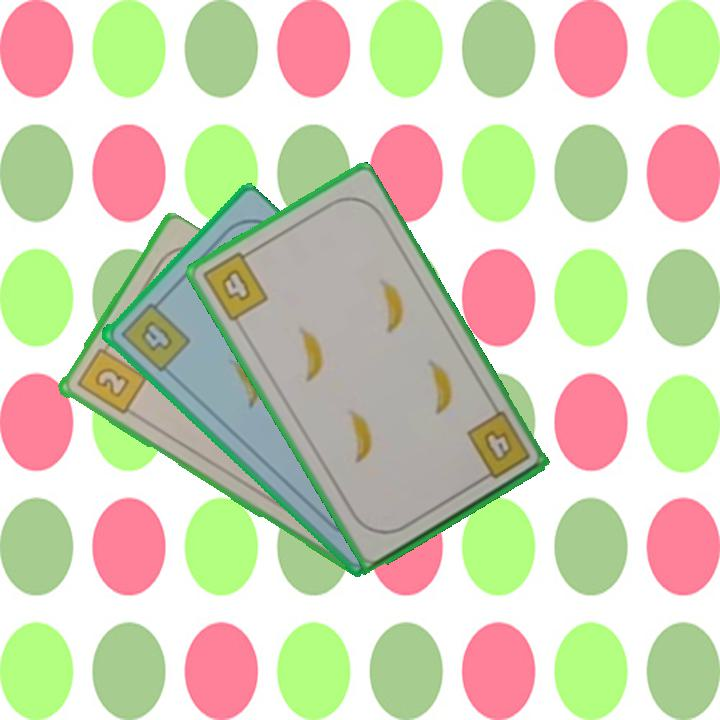2b: (73, 339, 149, 418)
4b: (116, 294, 193, 375), (198, 245, 271, 325), (462, 407, 533, 486)
